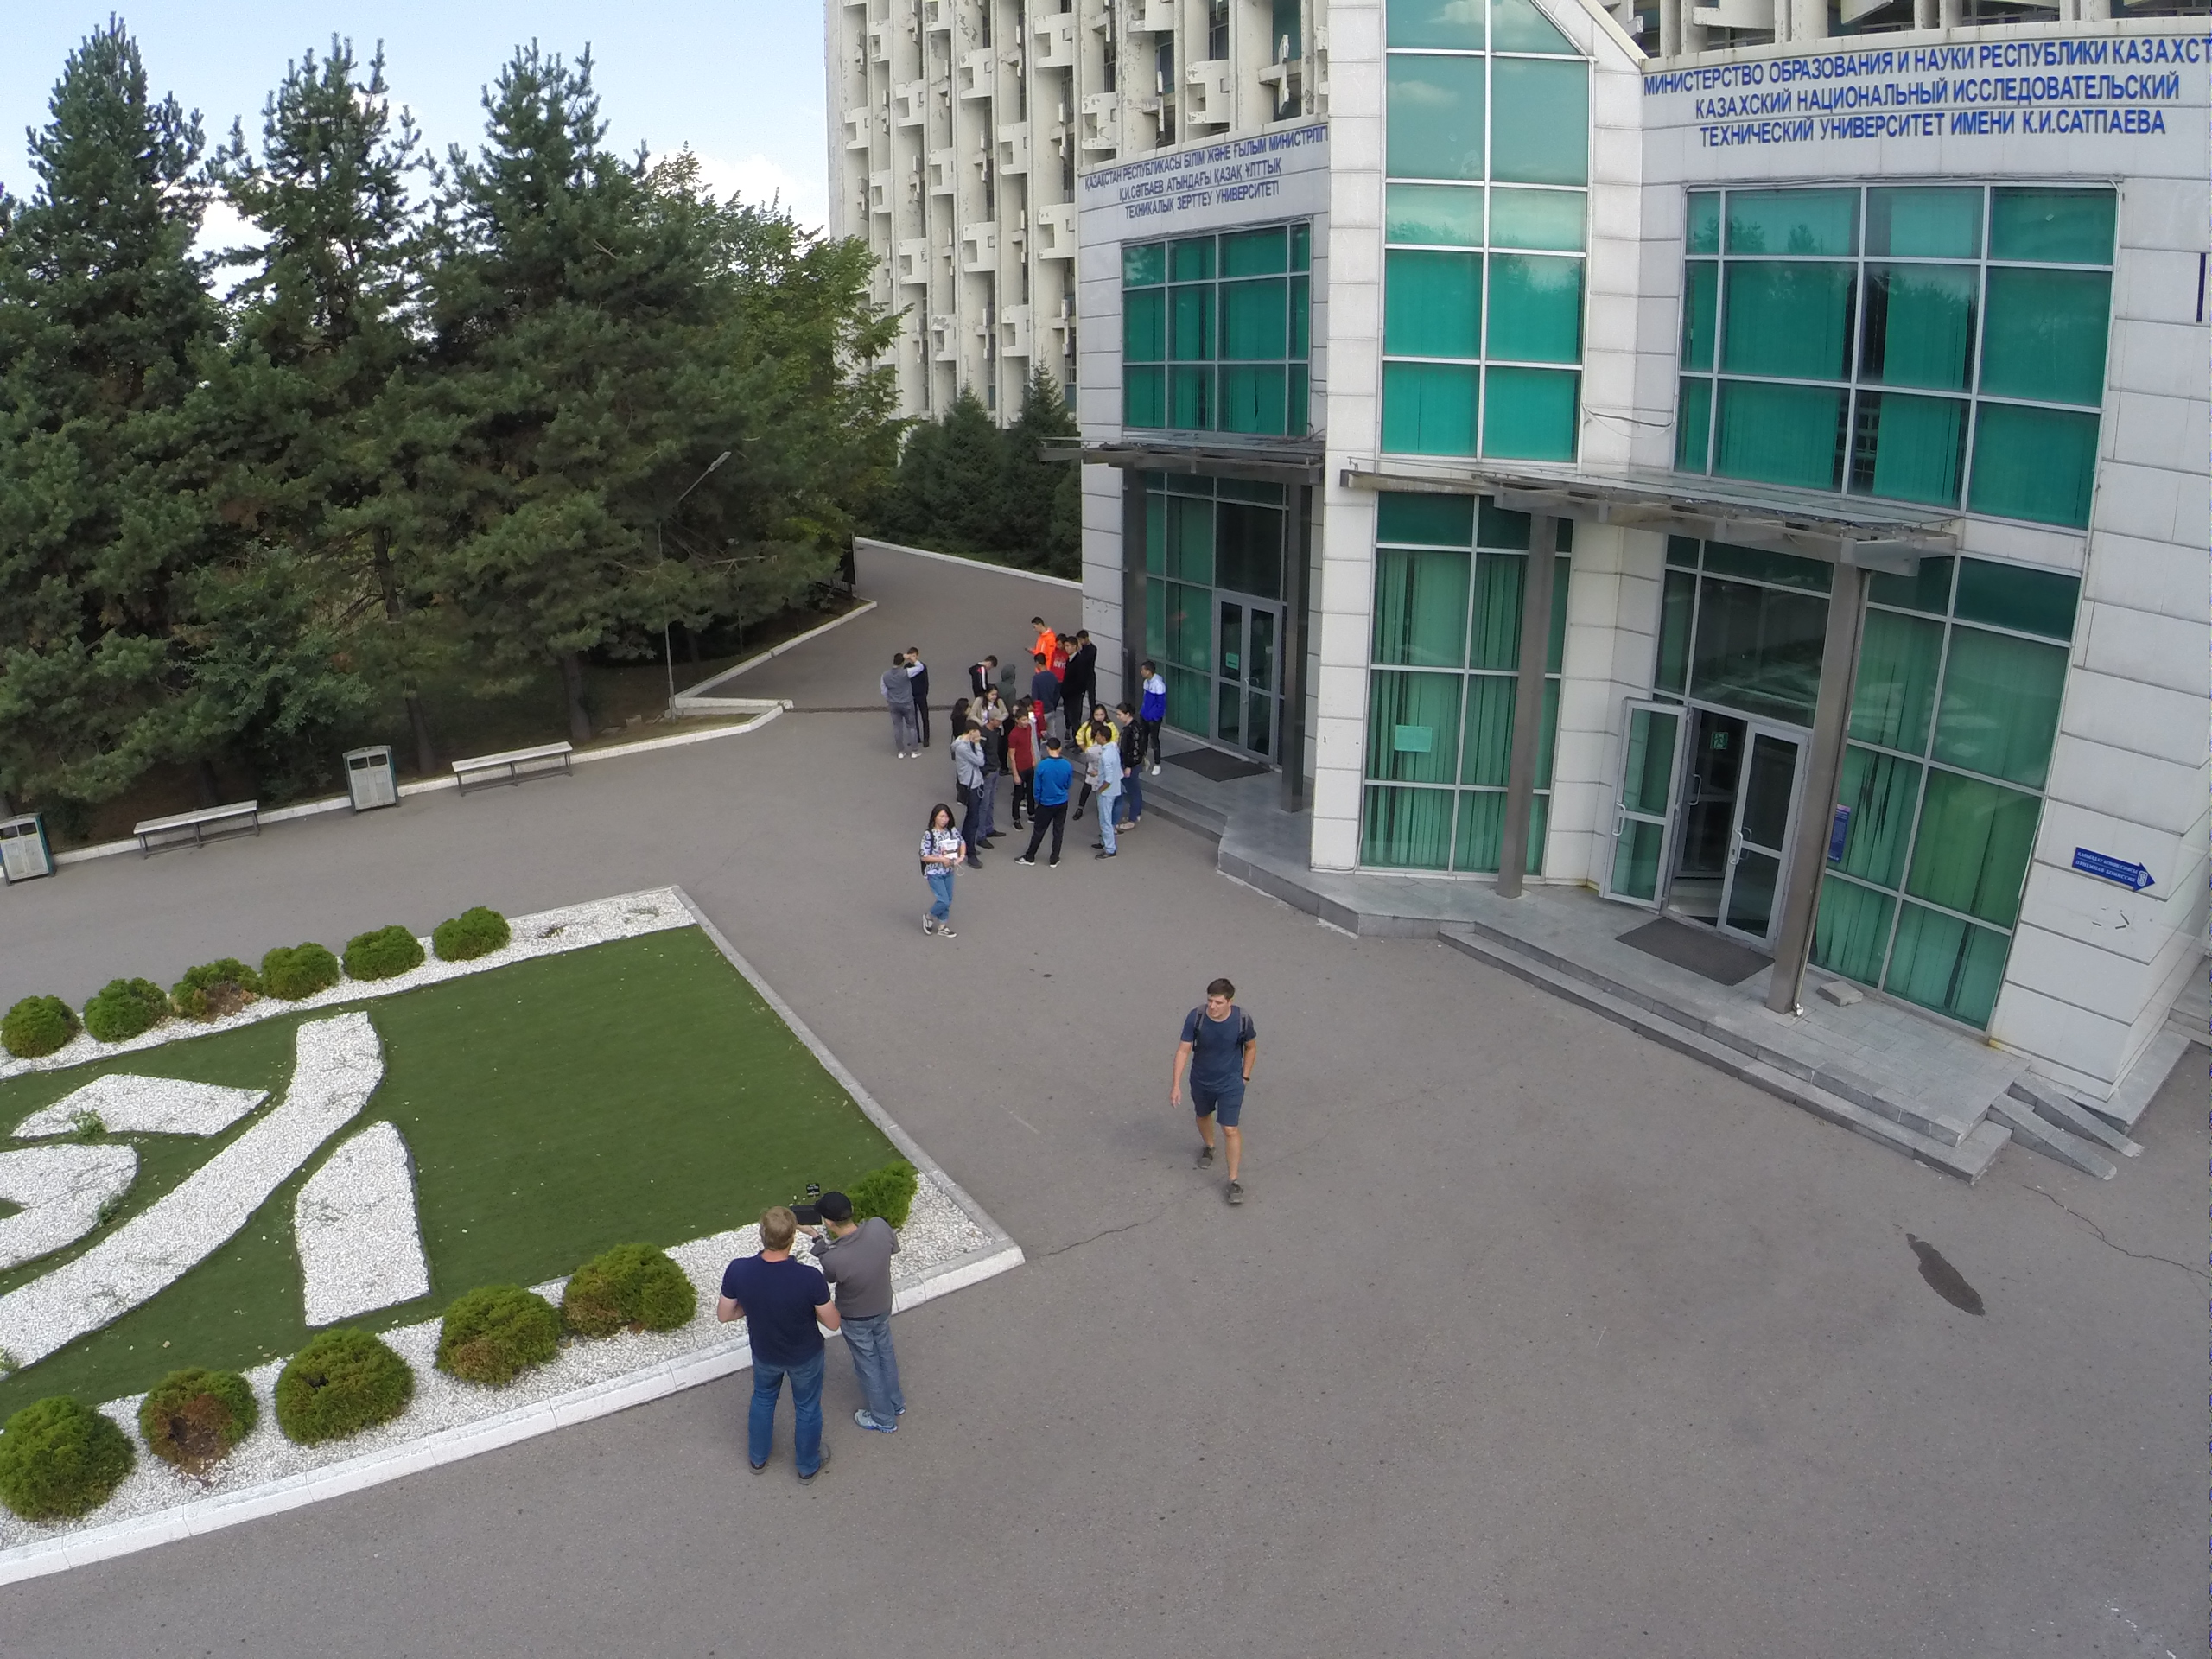person: (718, 1218, 834, 1484), (804, 1192, 909, 1438), (1163, 974, 1262, 1212), (913, 805, 964, 941), (1023, 740, 1071, 868), (954, 720, 988, 872), (1084, 725, 1118, 867), (880, 651, 923, 760), (979, 706, 1007, 853), (1116, 700, 1145, 831), (1135, 658, 1166, 773), (1005, 710, 1033, 829), (1029, 654, 1064, 736), (1062, 637, 1087, 728), (1078, 628, 1099, 702), (1027, 612, 1051, 658), (971, 653, 997, 690), (999, 661, 1018, 705)
